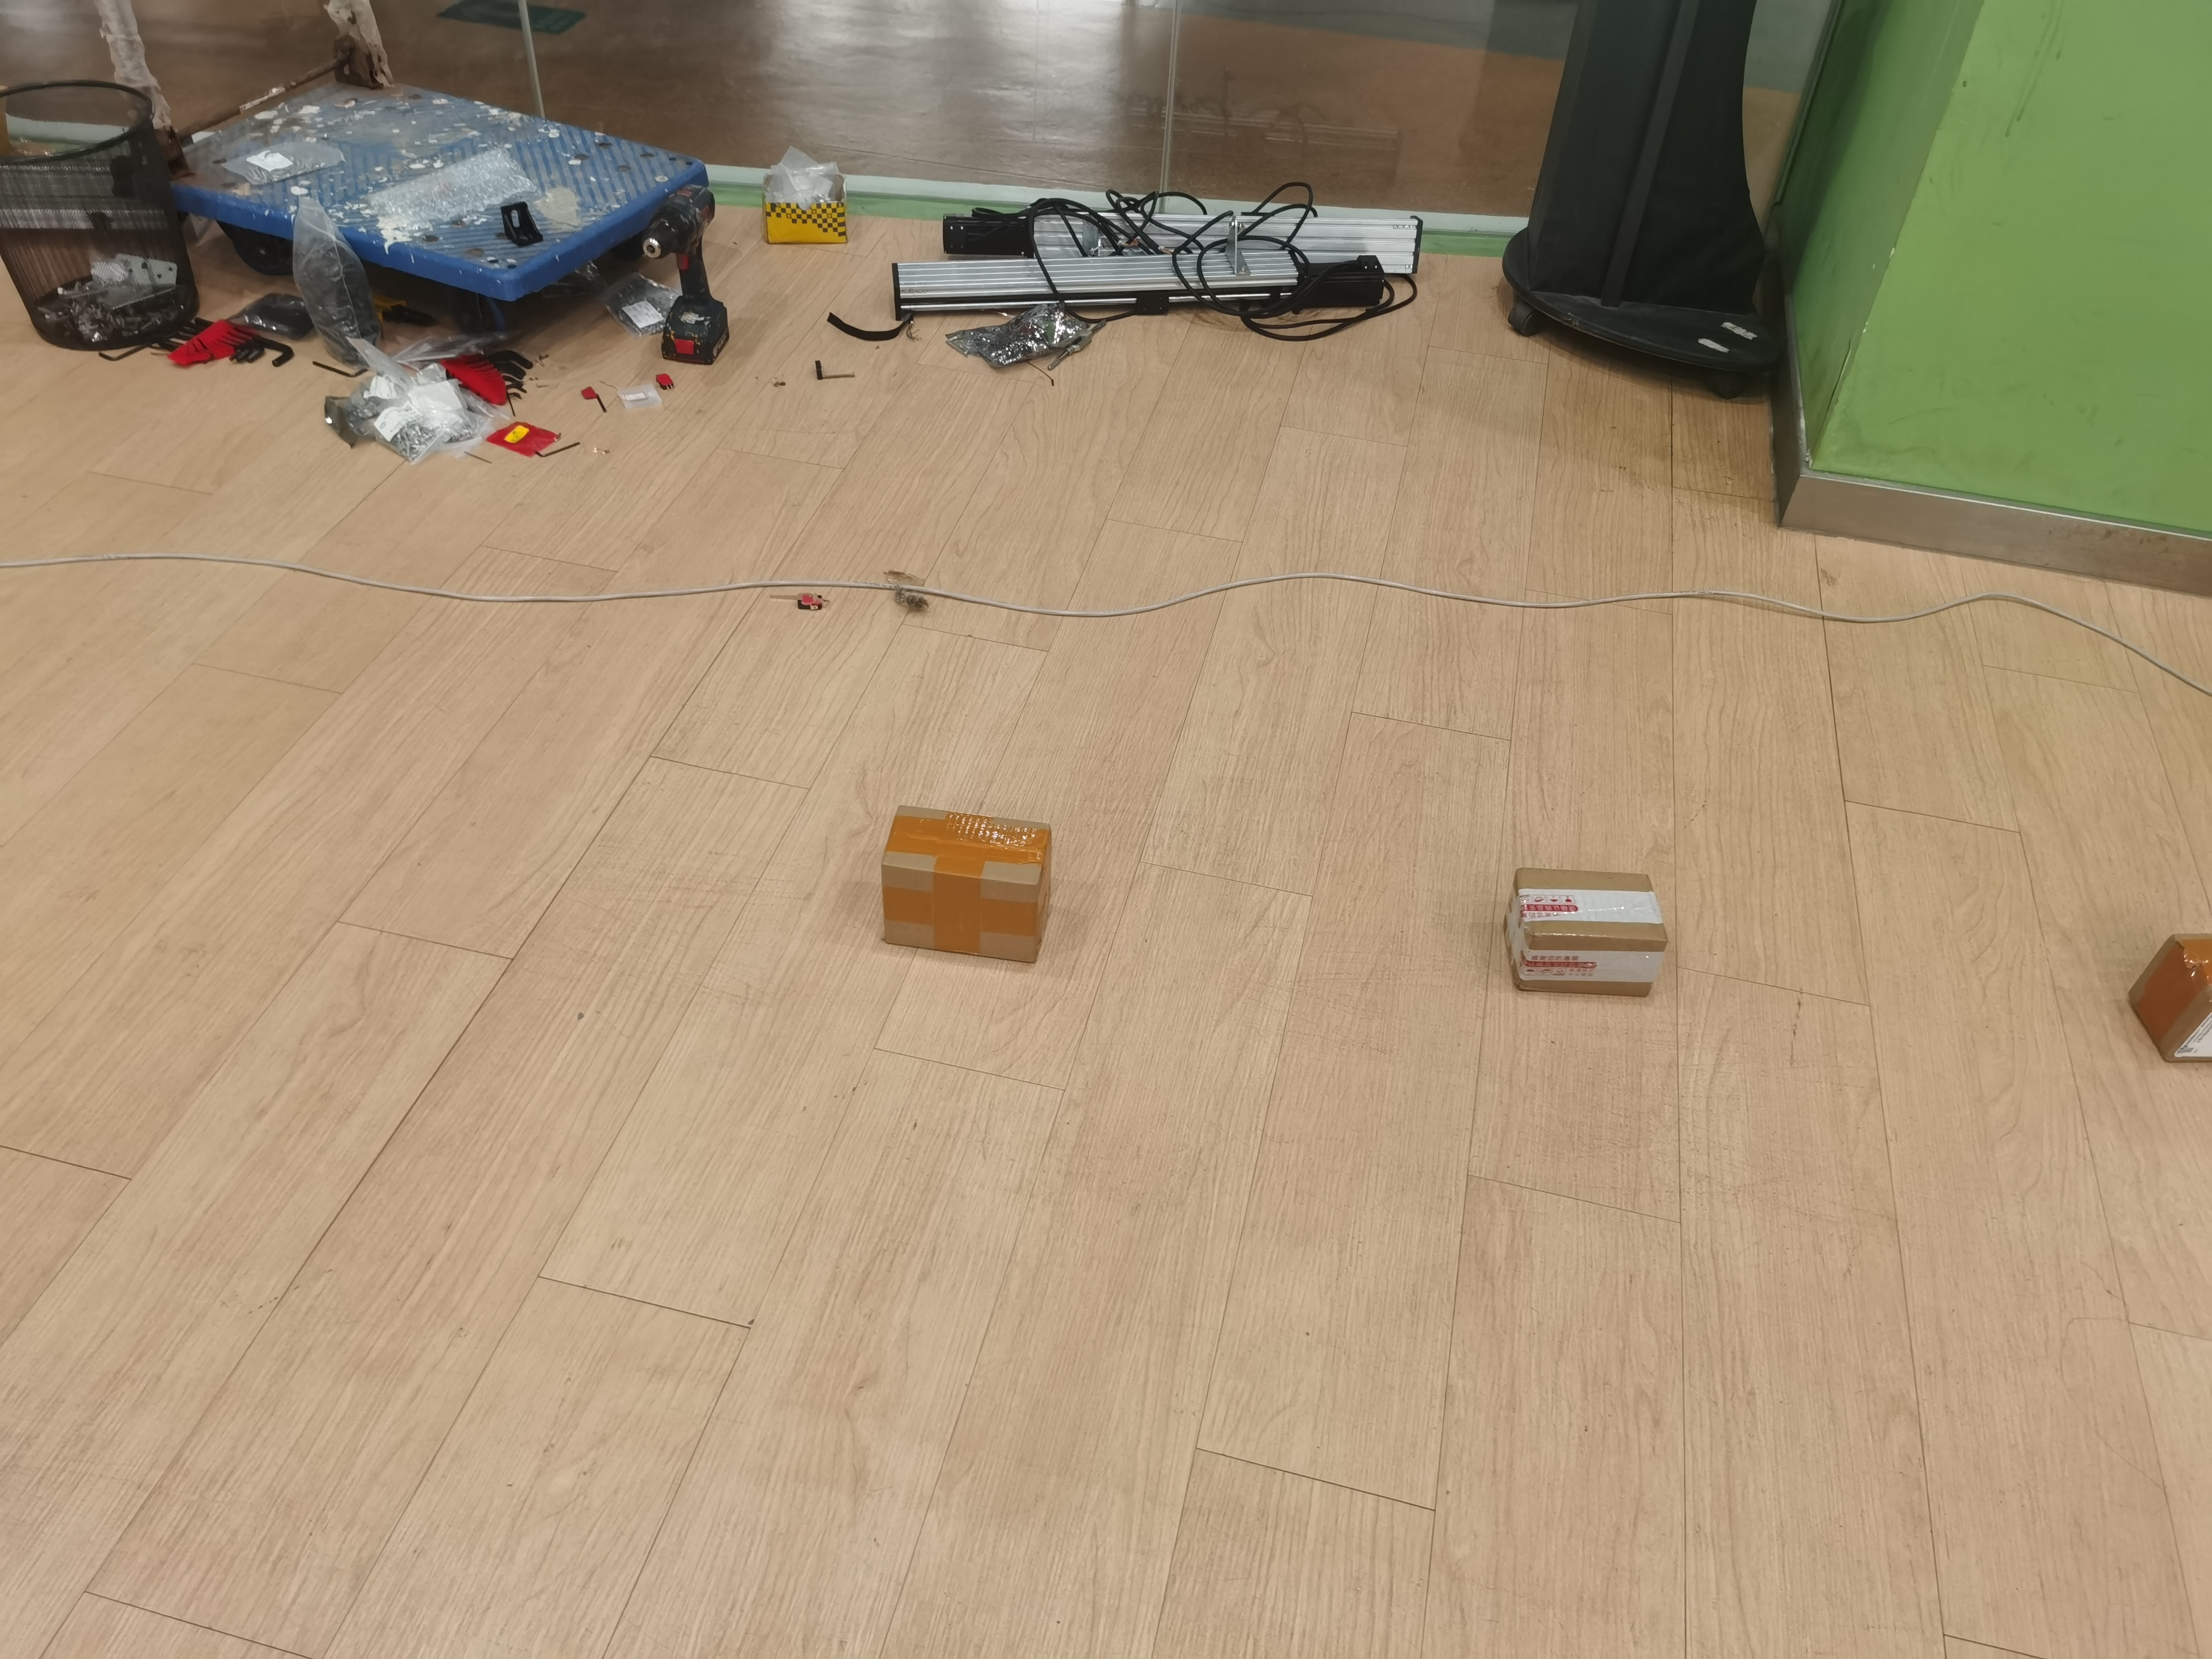box: (876, 802, 1062, 969), (1501, 861, 1677, 1012), (2123, 925, 2212, 1061)
